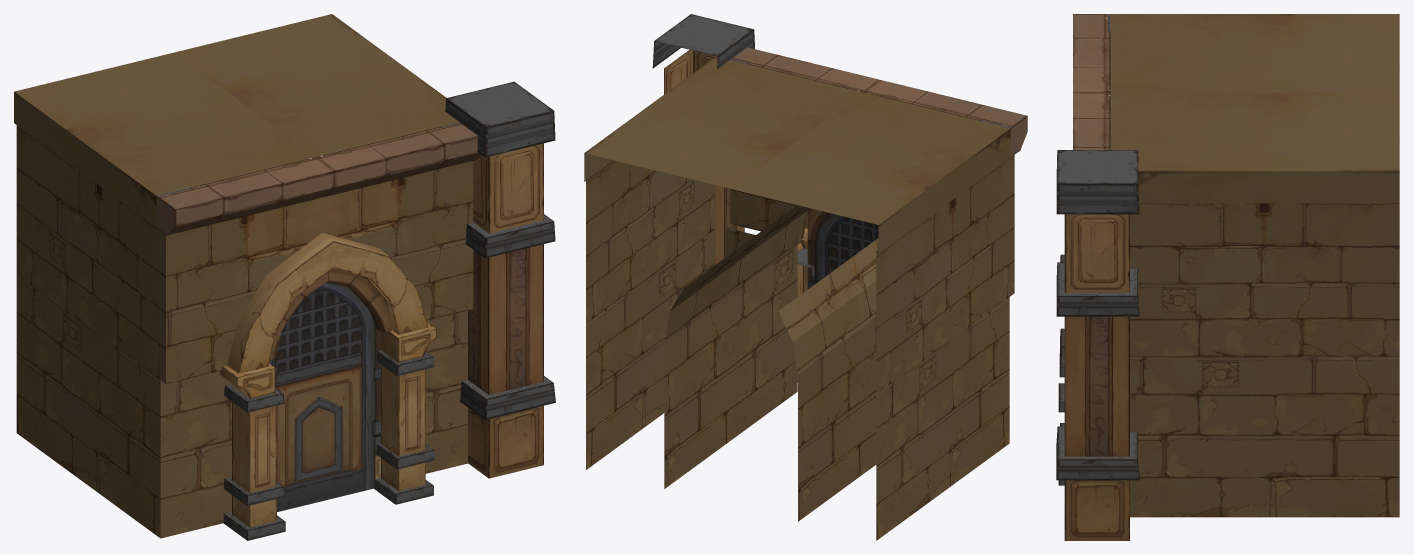
The model's file is 2_DG_JianYuDaMen_01.FBX.
3 renders of one model, left to right at view 1: azimuth 30°, elevation 25°; view 2: azimuth 150°, elevation 25°; view 3: azimuth 270°, elevation 25°, orthographic. The views are drawn at different scales.
Parts seen in each view (by area): view 1: 2_DG_JianYuDaMen_01, 2_DG_JianYuMenKuang_01, 2_DG_JianYuMen_01, 2_DG_DaMenZhuZi_01_02, 2_DG_DaMenZhuZi_01_01; view 2: 2_DG_JianYuDaMen_01, 2_DG_DaMenZhuZi_01_01, 2_DG_JianYuMen_01, 2_DG_DaMenZhuZi_01_02, 2_DG_JianYuMenKuang_01; view 3: 2_DG_JianYuDaMen_01, 2_DG_DaMenZhuZi_01_02, 2_DG_DaMenZhuZi_01_01, 2_DG_JianYuMenKuang_01.
Part boxes in pixels (bbox=[...]): 2_DG_JianYuDaMen_01: bbox=[14, 14, 481, 538]; 2_DG_JianYuMenKuang_01: bbox=[220, 233, 436, 540]; 2_DG_JianYuMen_01: bbox=[269, 283, 380, 511]; 2_DG_DaMenZhuZi_01_02: bbox=[460, 244, 555, 478]; 2_DG_DaMenZhuZi_01_01: bbox=[445, 81, 555, 258]; 2_DG_JianYuDaMen_01: bbox=[584, 47, 1027, 540]; 2_DG_DaMenZhuZi_01_01: bbox=[652, 14, 754, 94]; 2_DG_JianYuMen_01: bbox=[807, 208, 878, 289]; 2_DG_DaMenZhuZi_01_02: bbox=[715, 185, 744, 264]; 2_DG_JianYuMenKuang_01: bbox=[787, 203, 814, 382]; 2_DG_JianYuDaMen_01: bbox=[1073, 14, 1399, 517]; 2_DG_DaMenZhuZi_01_02: bbox=[1056, 316, 1139, 540]; 2_DG_DaMenZhuZi_01_01: bbox=[1056, 150, 1139, 316]; 2_DG_JianYuMenKuang_01: bbox=[1058, 254, 1064, 485].
Size of the model in its own units: 984 by 898 by 774.
2 materials, 2 textured.
